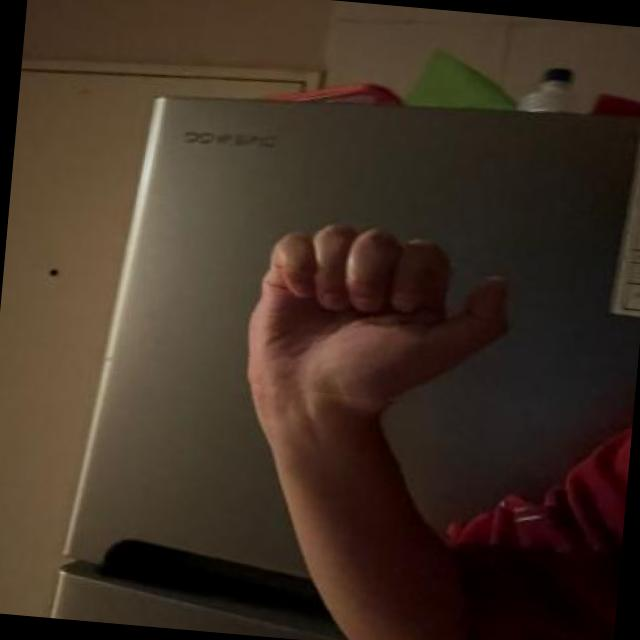E: (232, 208, 532, 416)
